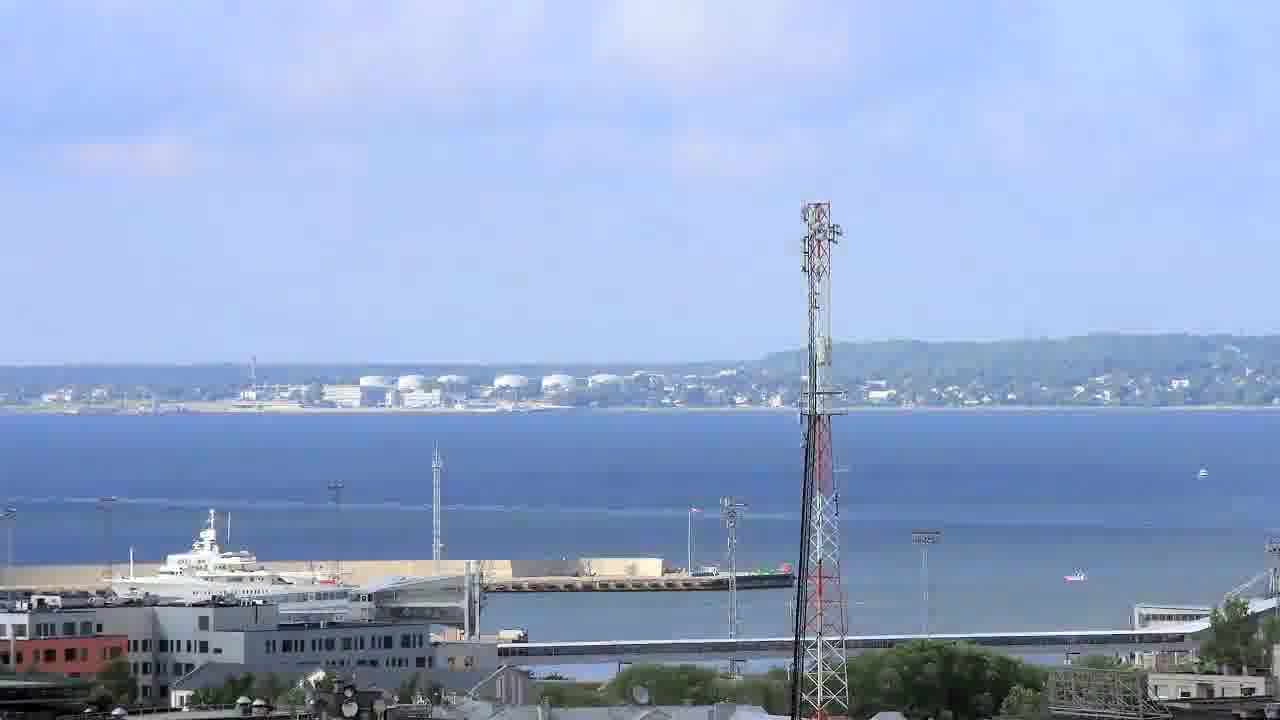type-3: (96, 508, 381, 605)
type-4: (1171, 452, 1229, 498), (1050, 559, 1105, 599)
